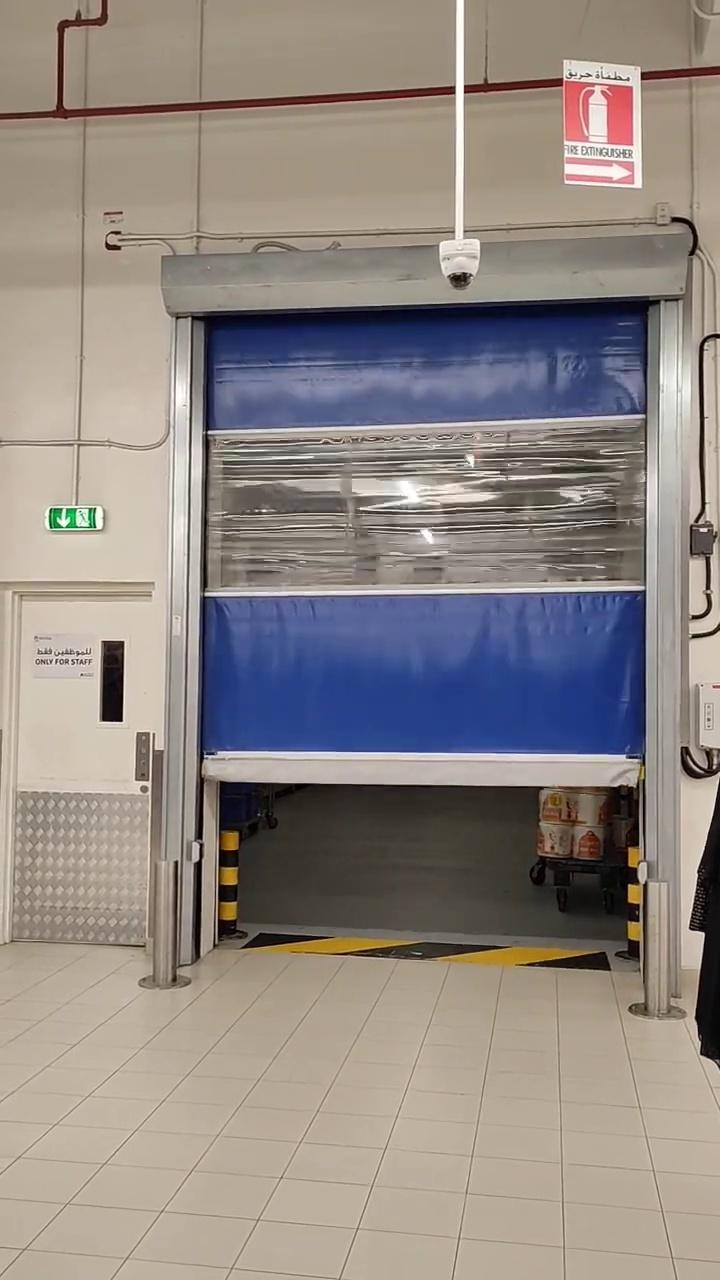Strip: (224, 917, 627, 977)
